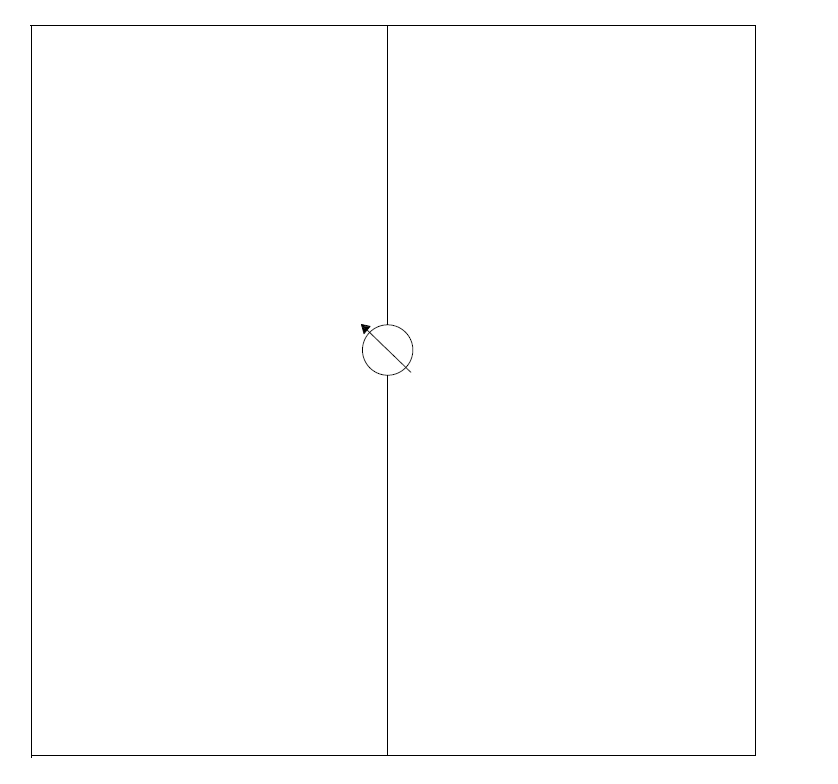REG: (341, 309, 436, 396)
